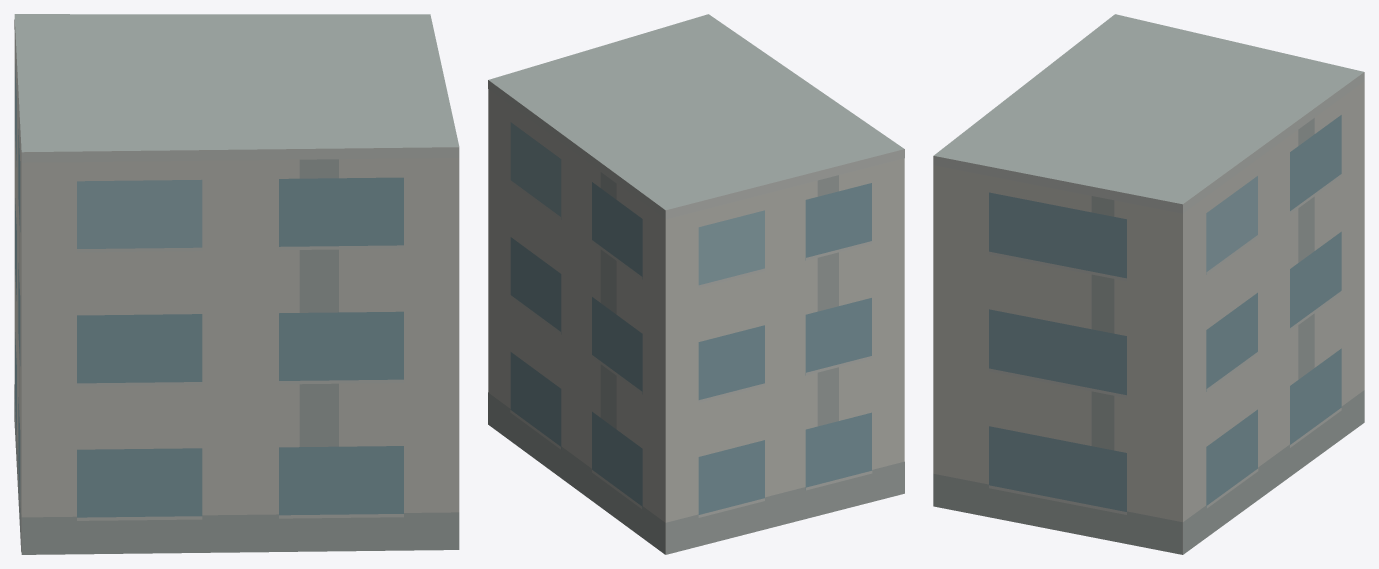
Rendered from residential-232fa06f-c0e7-4dbc-9ddc-df0ff7853cb7.glb.
3 renders of one model, left to right at view 1: azimuth 30°, elevation 25°; view 2: azimuth 150°, elevation 25°; view 3: azimuth 270°, elevation 25°, orthographic. The views are drawn at different scales.
Parts seen in each view (by area): view 1: residential-232fa06f-c0e7-4dbc-9ddc-df0ff7853cb7.tmp; view 2: residential-232fa06f-c0e7-4dbc-9ddc-df0ff7853cb7.tmp; view 3: residential-232fa06f-c0e7-4dbc-9ddc-df0ff7853cb7.tmp.
Boxes of the visible parts, bbox=[...] form: residential-232fa06f-c0e7-4dbc-9ddc-df0ff7853cb7.tmp: bbox=[14, 14, 459, 554]; residential-232fa06f-c0e7-4dbc-9ddc-df0ff7853cb7.tmp: bbox=[488, 14, 904, 554]; residential-232fa06f-c0e7-4dbc-9ddc-df0ff7853cb7.tmp: bbox=[933, 14, 1364, 554].
Bounding box in the file's own units: 10.66 × 9.15 × 10.21.
